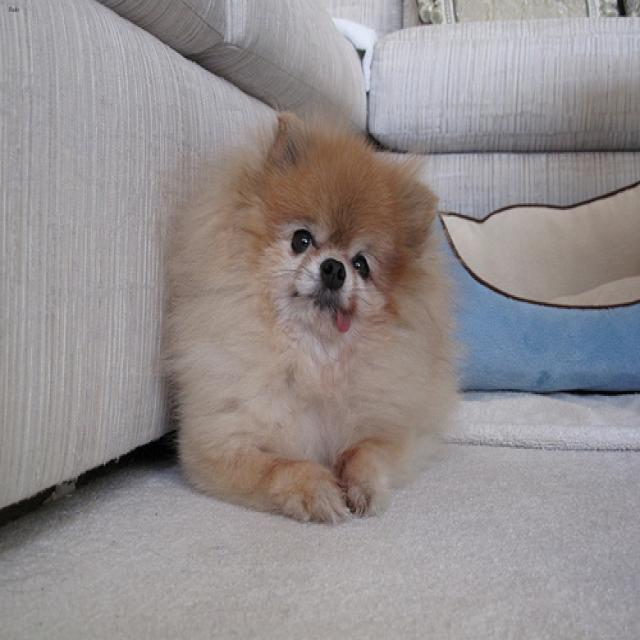dog-pomeranian: (148, 101, 475, 536)
